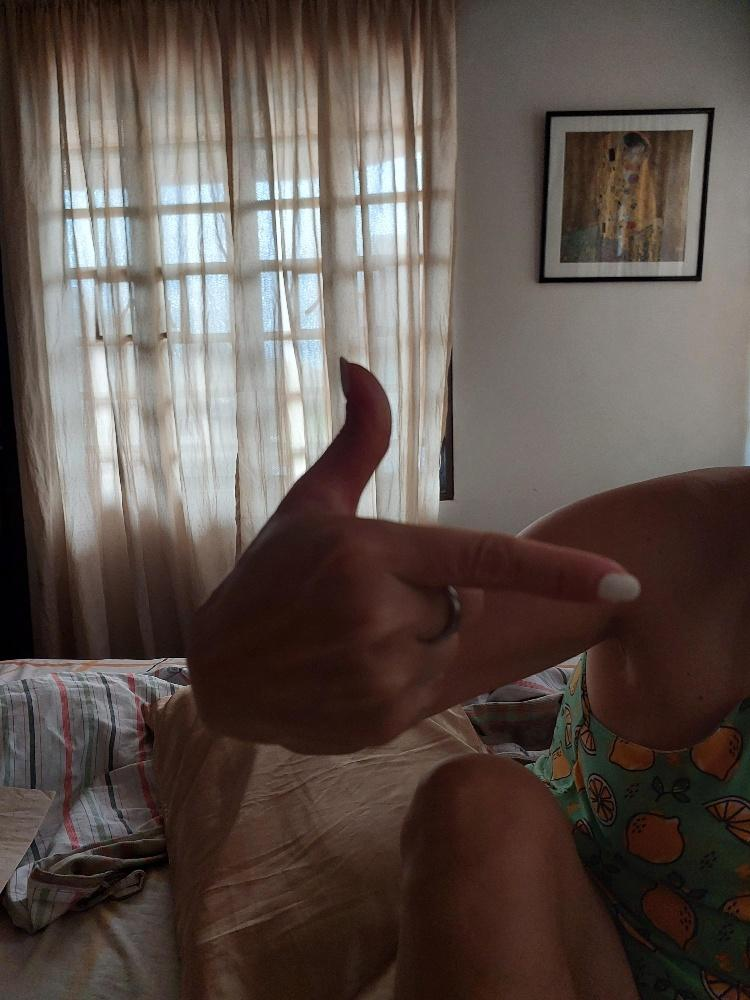g: (183, 350, 643, 759)
